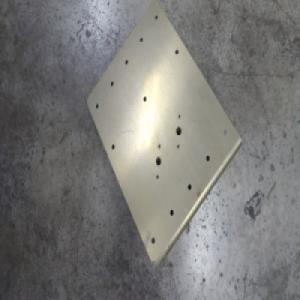MetalSheet: (84, 2, 243, 272)
